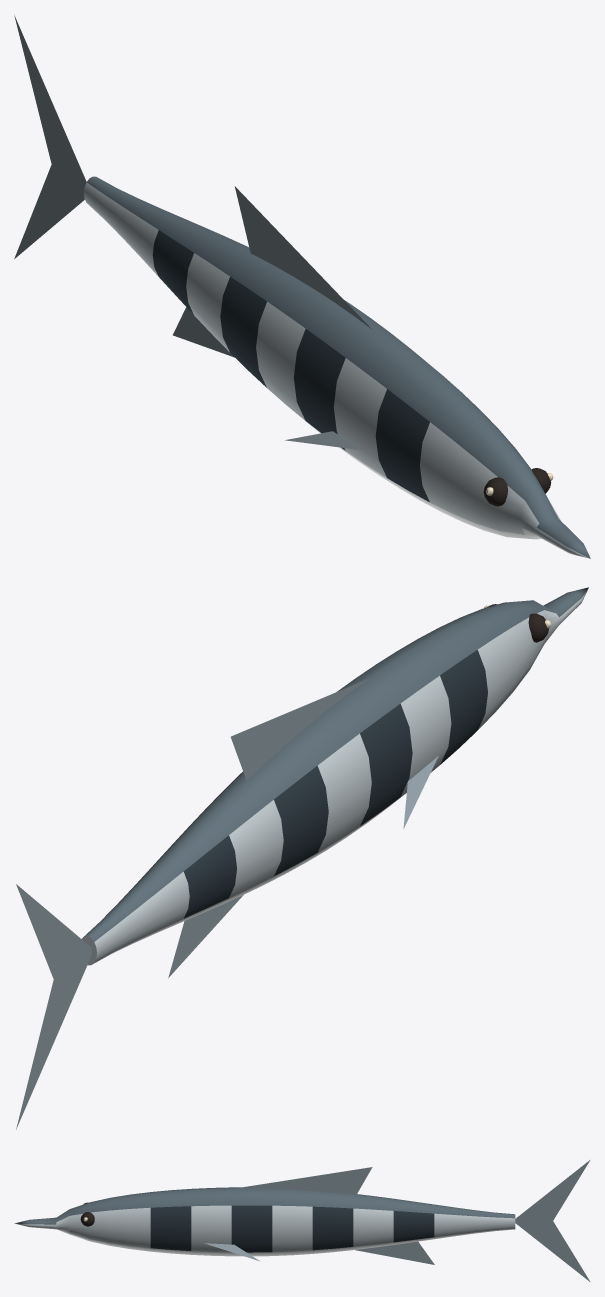
File: barracuda.fbx
The picture shows the model from 3 angles, top to bottom: view 1: azimuth 30°, elevation 25°; view 2: azimuth 150°, elevation 25°; view 3: azimuth 270°, elevation 25°; orthographic projection. The views are drawn at different scales.
Parts seen in each view (by area): view 1: Fish_barracuda_EXP; view 2: Fish_barracuda_EXP; view 3: Fish_barracuda_EXP.
Boxes of the visible parts, left/top/right/bottom form: Fish_barracuda_EXP: left=14, top=15, right=590, bottom=558; Fish_barracuda_EXP: left=16, top=587, right=588, bottom=1129; Fish_barracuda_EXP: left=14, top=1160, right=590, bottom=1281.
Bounding box in the file's own units: 0.1355 × 0.2601 × 1.1.
